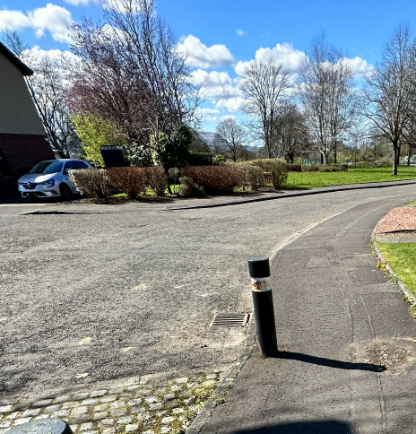car: (13, 151, 103, 205)
tree: (65, 44, 155, 144), (302, 39, 361, 162), (374, 25, 416, 172), (244, 59, 291, 161)
